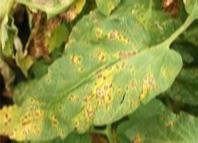Tomato Septoria leaf spot: (7, 16, 183, 139)
